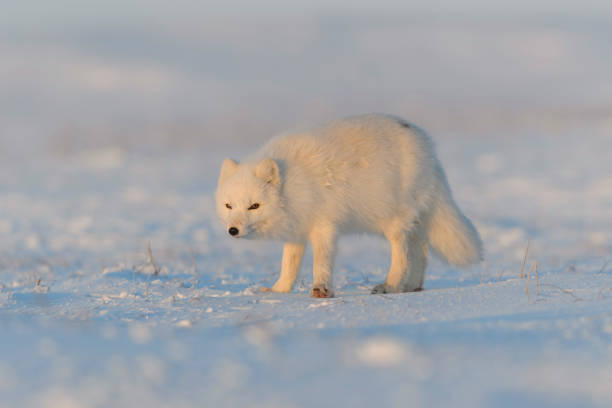arcticfox: (210, 178, 290, 247)
